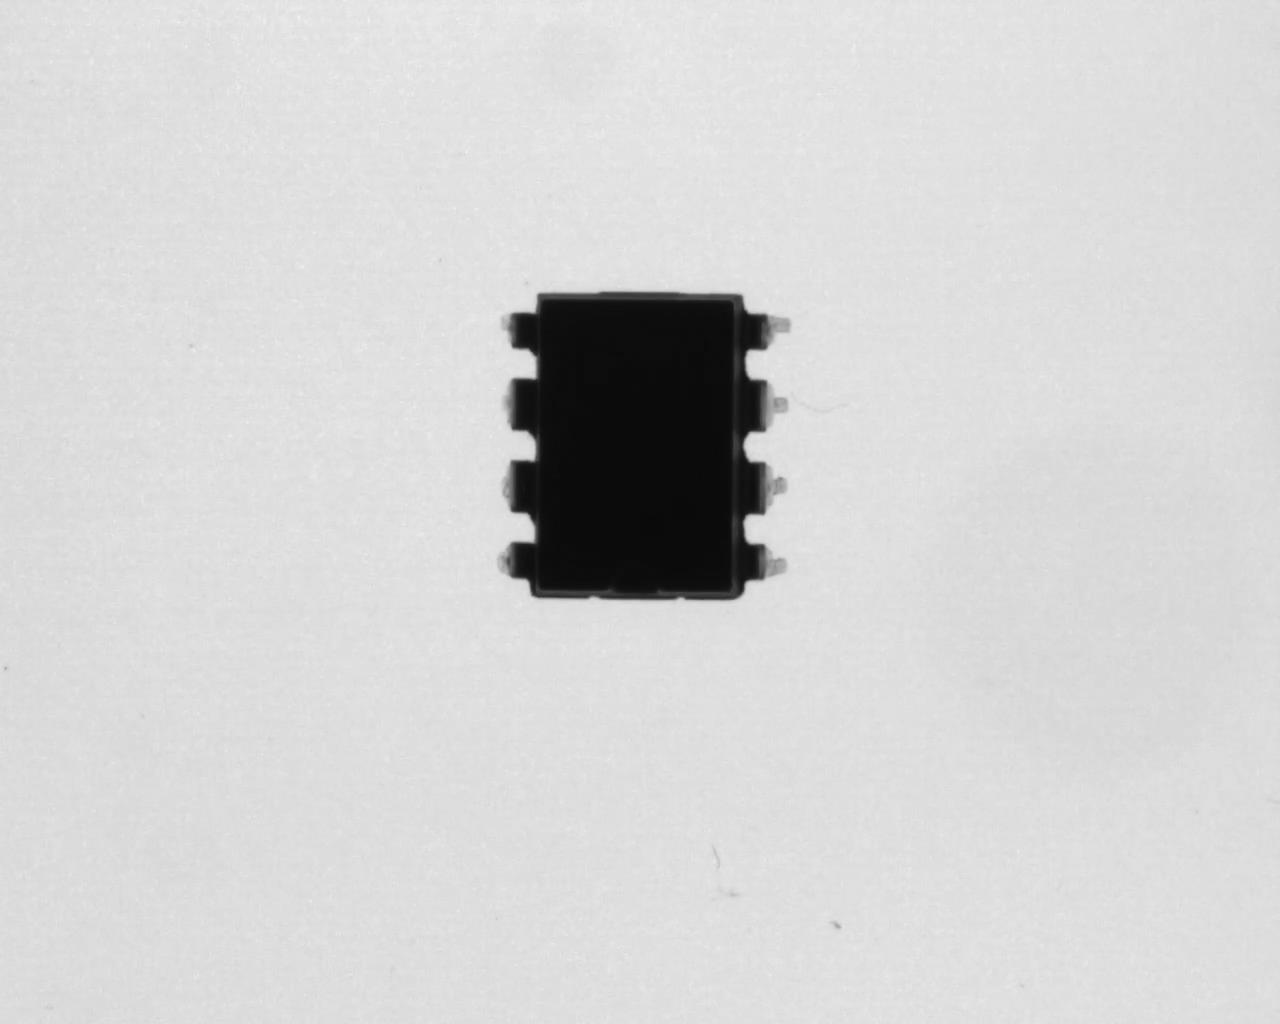Leg: (484, 448, 541, 520), (735, 451, 794, 518), (490, 371, 544, 441), (490, 536, 551, 592), (741, 374, 789, 437), (486, 303, 543, 353), (743, 534, 788, 586), (745, 307, 796, 351)
